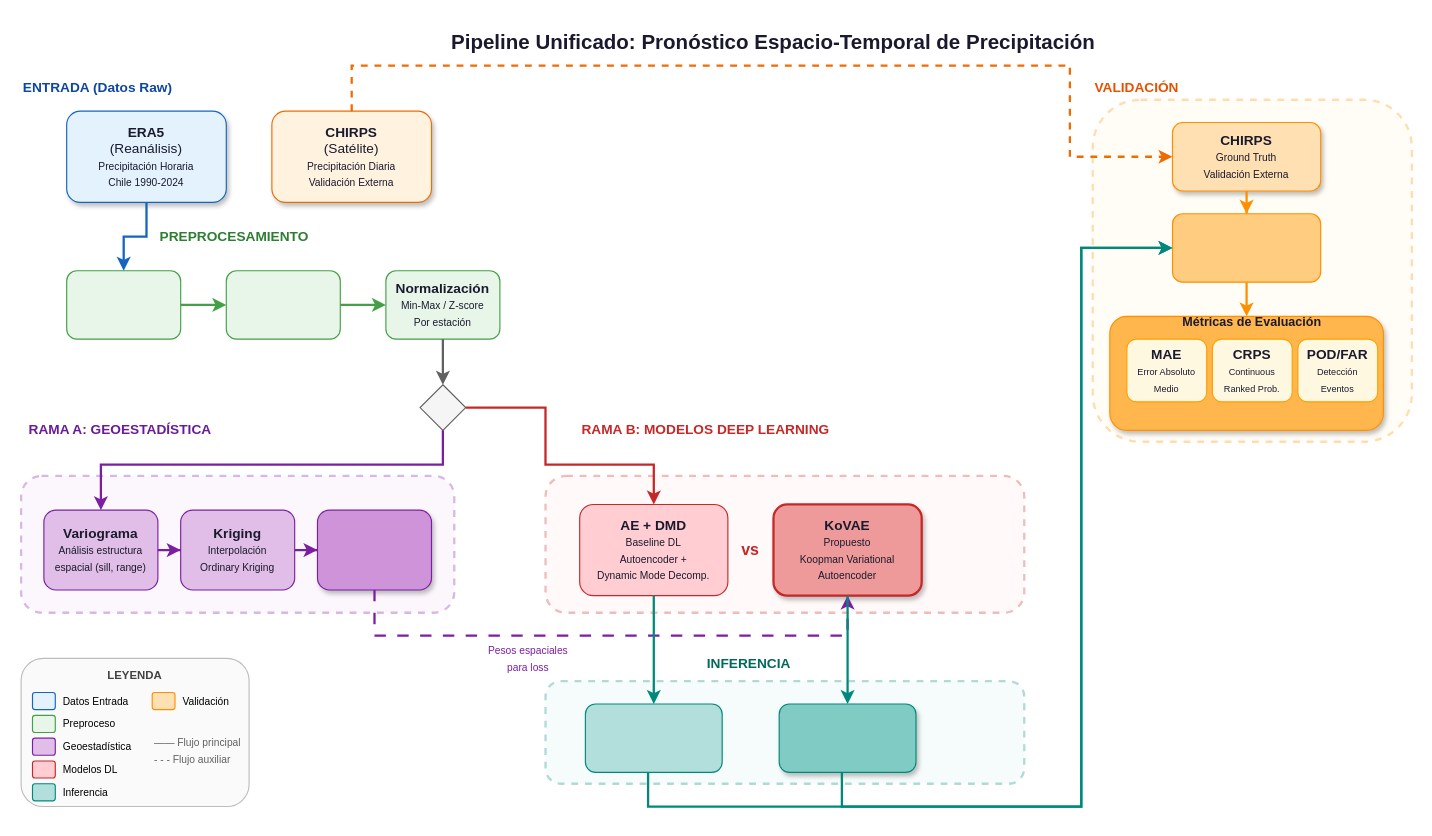
Some shapes in this 1432 by 836 pixel diagram are drawn without their labels. The shapes that lost their labels are listed below. From the top down, each one's centre as x and y in pixels, then its label:
[1246,247]: Comparación Pronósticos vs Observaciones
[123,304]: Cleaning NaN handling QC flags
[282,304]: Aggregation Hourly → Daily Suma 24h
[375,551]: Mapa de Pesos Varianza kriging → Loss ponderada
[653,737]: Pronóstico Determinista AE+DMD: μ
[848,739]: Pronóstico Probabilístico KoVAE: μ ± σ
